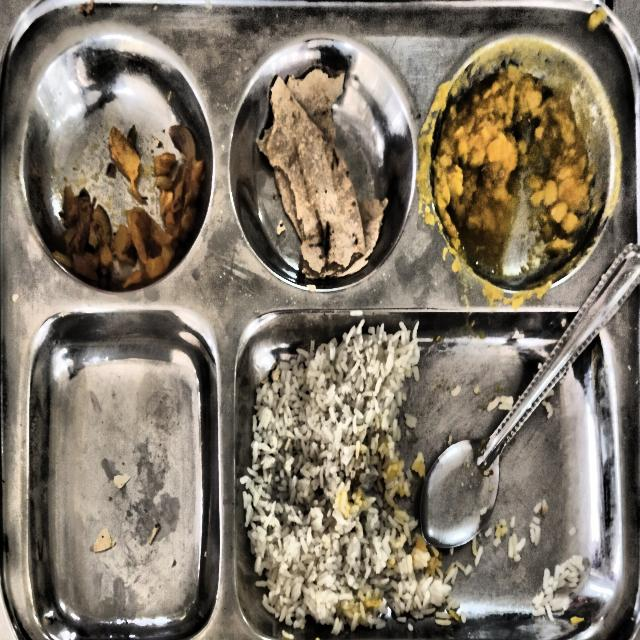Chilli-paneer: (434, 68, 587, 261)
Raita: (240, 325, 419, 622)
Red--chutney: (258, 70, 385, 267)
gajar-aloo: (27, 75, 211, 274)
